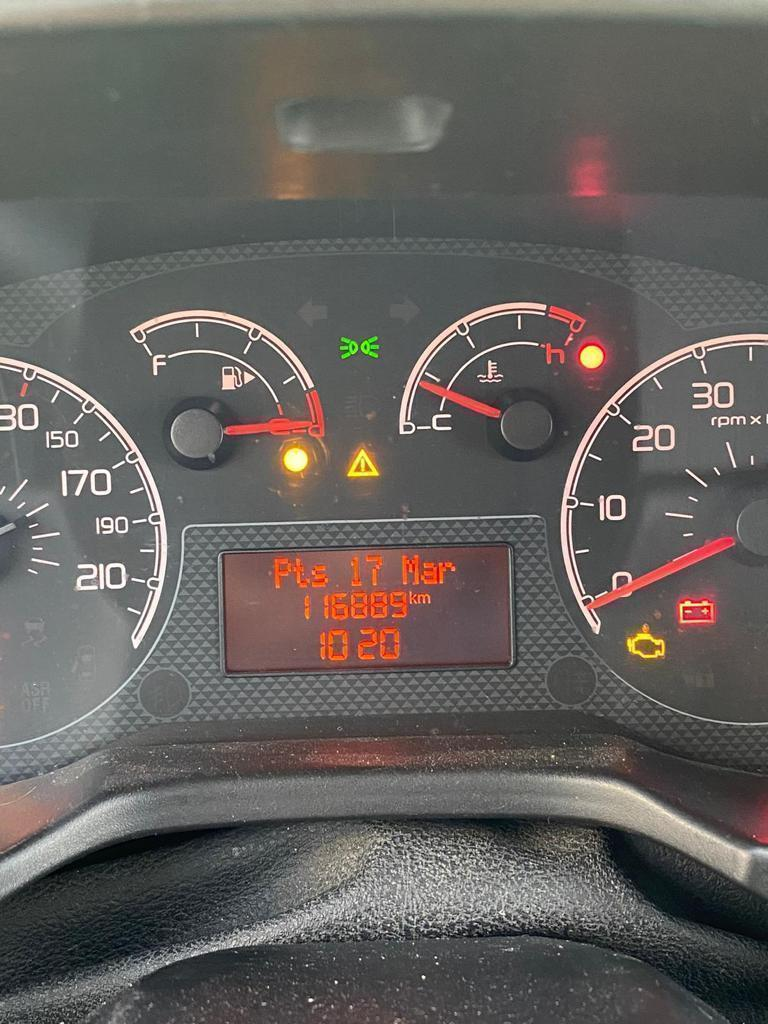0: (378, 626, 401, 661), (327, 628, 348, 662)
1: (350, 554, 361, 587), (318, 628, 326, 661), (302, 592, 311, 621), (322, 593, 329, 621)
2: (357, 627, 378, 660)
6: (331, 592, 348, 621)
7: (364, 553, 386, 587)
8: (370, 590, 388, 620), (350, 591, 368, 620)
9: (389, 589, 407, 620)
X: (401, 552, 419, 586), (273, 556, 291, 589), (292, 556, 310, 589), (311, 562, 330, 587), (439, 560, 457, 585), (421, 560, 437, 585), (417, 593, 431, 604), (408, 590, 417, 605)
odometer: (214, 544, 520, 675)
